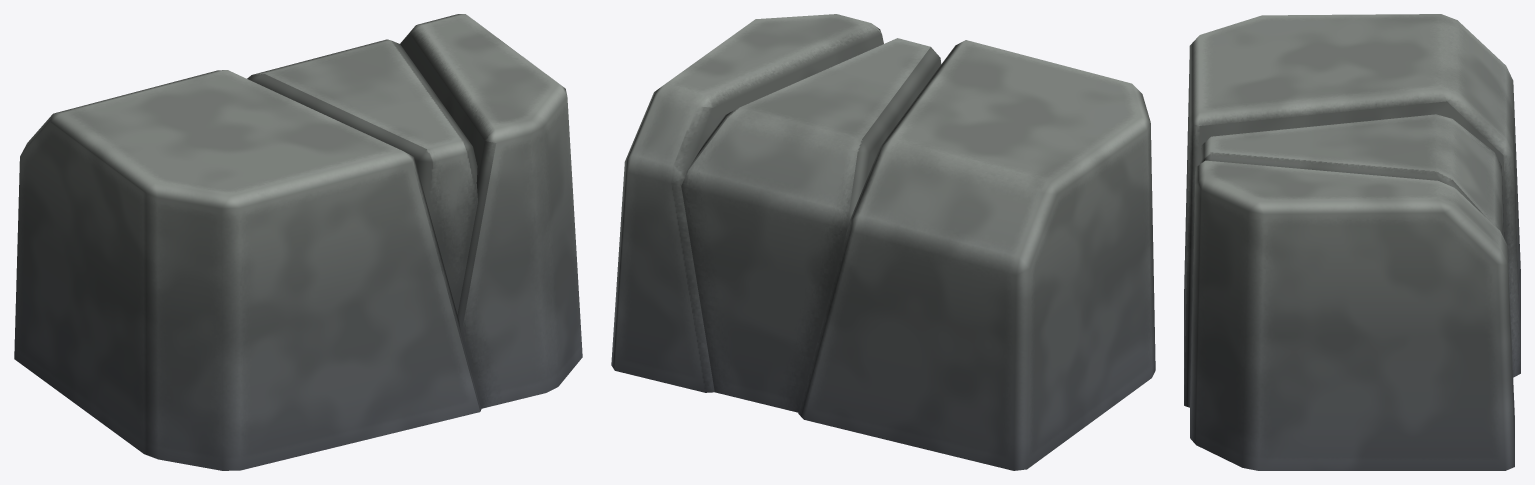
The model's file is block_3.glb.
The picture shows the model from 3 angles, left to right: view 1: azimuth 30°, elevation 25°; view 2: azimuth 150°, elevation 25°; view 3: azimuth 270°, elevation 25°; orthographic projection. The views are drawn at different scales.
Visible parts, largest first — view 1: block_3; view 2: block_3; view 3: block_3.
Boxes of the visible parts, left/top/right/bottom form: block_3: left=14, top=14, right=582, bottom=470; block_3: left=611, top=14, right=1155, bottom=470; block_3: left=1184, top=14, right=1520, bottom=470.
Size of the model in its own units: 2 by 1.2 by 1.4.
Materials: 1 (1 with a texture image).
